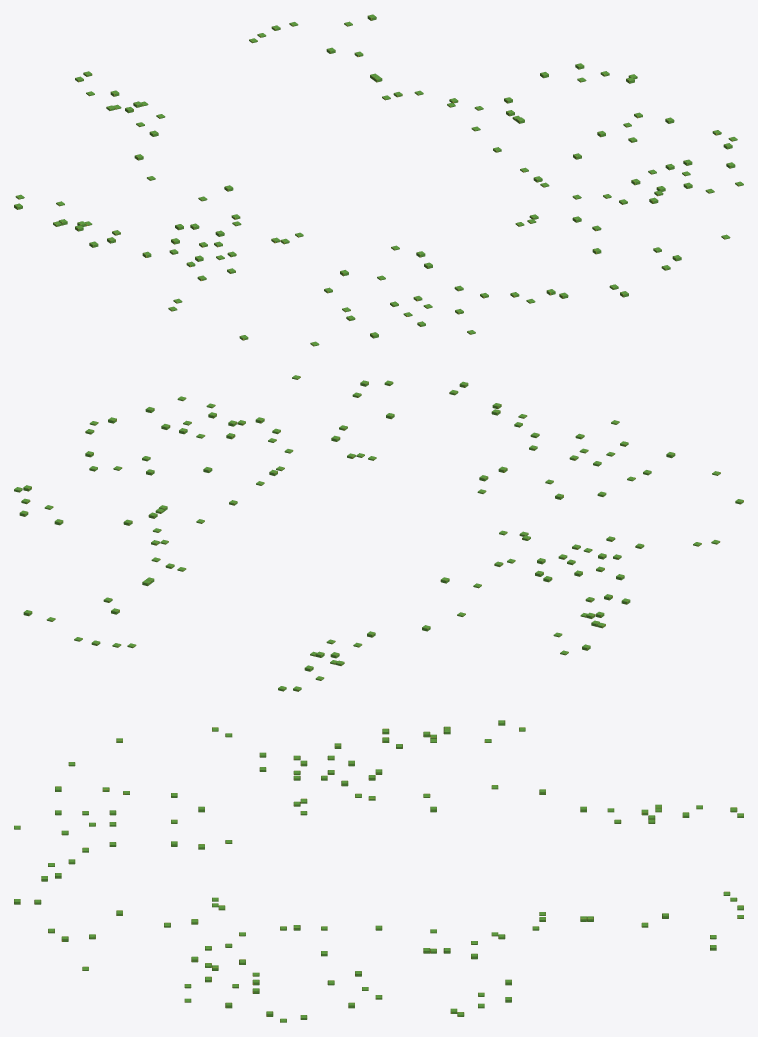
The model's file is env_grass_bumps.fbx.
The picture shows the model from 3 angles, top to bottom: view 1: azimuth 30°, elevation 25°; view 2: azimuth 150°, elevation 25°; view 3: azimuth 270°, elevation 25°; orthographic projection.
Parts seen in each view (by area): view 1: env_grass_bumps; view 2: env_grass_bumps; view 3: env_grass_bumps.
Boxes of the visible parts, x1,y1,x2,y2 form: env_grass_bumps: [14, 14, 743, 346]; env_grass_bumps: [14, 375, 743, 691]; env_grass_bumps: [14, 720, 743, 1022].
Bounding box in the file's own units: 416 × 2 × 428.
1 material, 1 textured.
